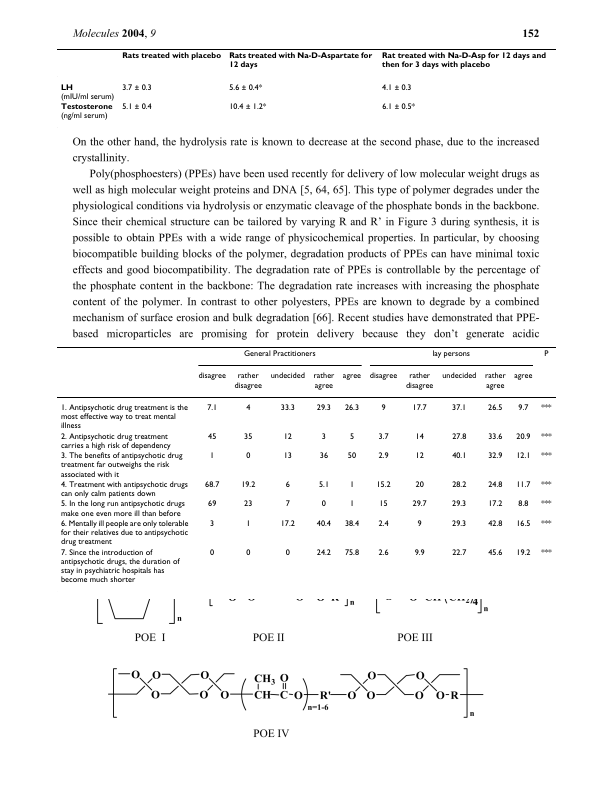borderless: (55, 345, 557, 593), (55, 47, 557, 129)
cell: (59, 548, 180, 585), (59, 519, 189, 547), (59, 403, 188, 431), (59, 451, 183, 480), (381, 52, 546, 70), (228, 52, 373, 70), (59, 499, 185, 519), (59, 480, 188, 499), (59, 432, 171, 451), (59, 83, 115, 102), (59, 103, 113, 121), (121, 52, 222, 61), (242, 349, 316, 359), (404, 372, 434, 391), (233, 372, 262, 391), (312, 372, 335, 391), (483, 372, 506, 391), (228, 102, 267, 112), (431, 349, 470, 359), (228, 83, 263, 93), (381, 102, 415, 112), (269, 372, 305, 381), (441, 372, 477, 381), (121, 83, 152, 93), (381, 83, 412, 93), (121, 102, 152, 112), (368, 372, 398, 381), (197, 372, 226, 381), (341, 372, 362, 381), (513, 372, 533, 381), (343, 519, 360, 529), (343, 548, 360, 558), (279, 403, 295, 413), (315, 403, 331, 413), (343, 403, 359, 413), (411, 403, 427, 413), (451, 403, 467, 413), (487, 403, 503, 413), (451, 432, 467, 442), (487, 432, 503, 442), (515, 432, 531, 442), (451, 451, 467, 461), (487, 451, 503, 461), (515, 451, 531, 461), (204, 480, 220, 490), (240, 480, 256, 490), (375, 480, 391, 490), (451, 480, 467, 490), (487, 480, 503, 490), (515, 480, 531, 490), (411, 499, 427, 509), (451, 499, 467, 509), (487, 499, 503, 509), (279, 519, 295, 529), (315, 519, 331, 529), (451, 519, 467, 529), (487, 519, 503, 529), (515, 519, 531, 529), (315, 548, 331, 558), (451, 548, 467, 558), (487, 548, 503, 558), (515, 548, 531, 558), (206, 403, 218, 413), (517, 403, 529, 413), (540, 403, 552, 413), (377, 432, 389, 442), (540, 432, 552, 442), (377, 451, 389, 461), (540, 451, 552, 461), (317, 480, 329, 490), (540, 480, 552, 490), (517, 499, 529, 509), (540, 499, 552, 509), (377, 519, 389, 529), (540, 519, 552, 529), (377, 548, 389, 558), (413, 548, 425, 558), (540, 548, 552, 558), (318, 451, 329, 461), (346, 451, 357, 461), (207, 432, 217, 442), (243, 432, 253, 442), (282, 432, 292, 442), (414, 432, 424, 442), (282, 451, 292, 461), (414, 451, 424, 461), (414, 480, 424, 490), (207, 499, 217, 509), (243, 499, 253, 509), (378, 499, 388, 509), (348, 432, 355, 442), (348, 480, 355, 490), (348, 499, 355, 509), (543, 349, 549, 359), (245, 403, 251, 413), (380, 403, 386, 413), (320, 432, 326, 442), (209, 451, 215, 461), (245, 451, 251, 461), (284, 480, 290, 490), (284, 499, 290, 509), (320, 499, 326, 509), (209, 519, 215, 529), (245, 519, 251, 529), (416, 519, 422, 529), (209, 548, 215, 558), (245, 548, 251, 558), (284, 548, 290, 558)
